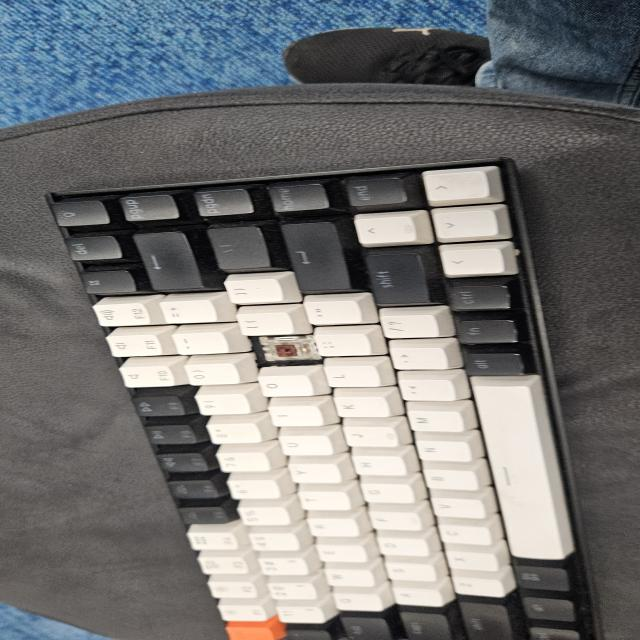C: (259, 336, 306, 365)
